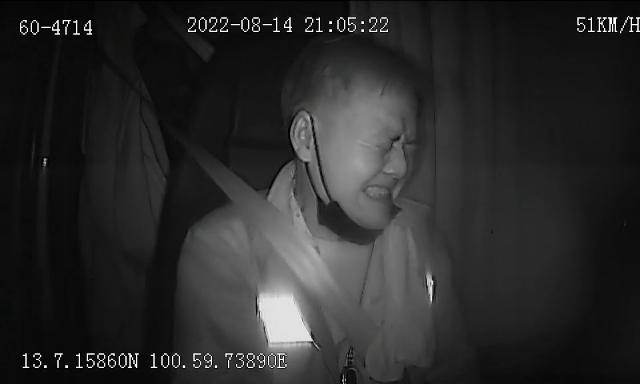Seatbelt: (192, 151, 380, 367)
